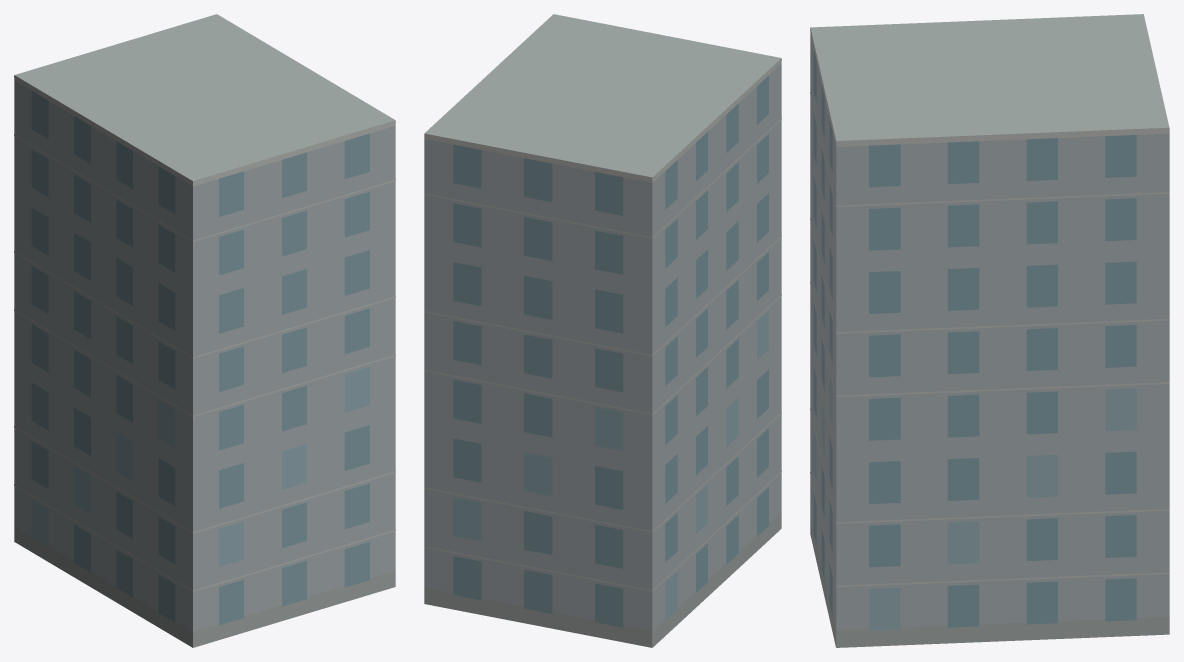
Rendered from survey-upis-32654910.glb.
3 views of the same model, side by side, from view 1: azimuth 30°, elevation 25°; view 2: azimuth 150°, elevation 25°; view 3: azimuth 270°, elevation 25° (orthographic). The views are drawn at different scales.
Visible parts, largest first — view 1: survey-upis-32654910.tmp; view 2: survey-upis-32654910.tmp; view 3: survey-upis-32654910.tmp.
Part boxes in pixels (x1=…): survey-upis-32654910.tmp: x1=14, y1=14, x2=395, y2=647; survey-upis-32654910.tmp: x1=424, y1=14, x2=781, y2=647; survey-upis-32654910.tmp: x1=810, y1=14, x2=1169, y2=647.
Size of the model in its own units: 11.37 by 21.1 by 13.57.
